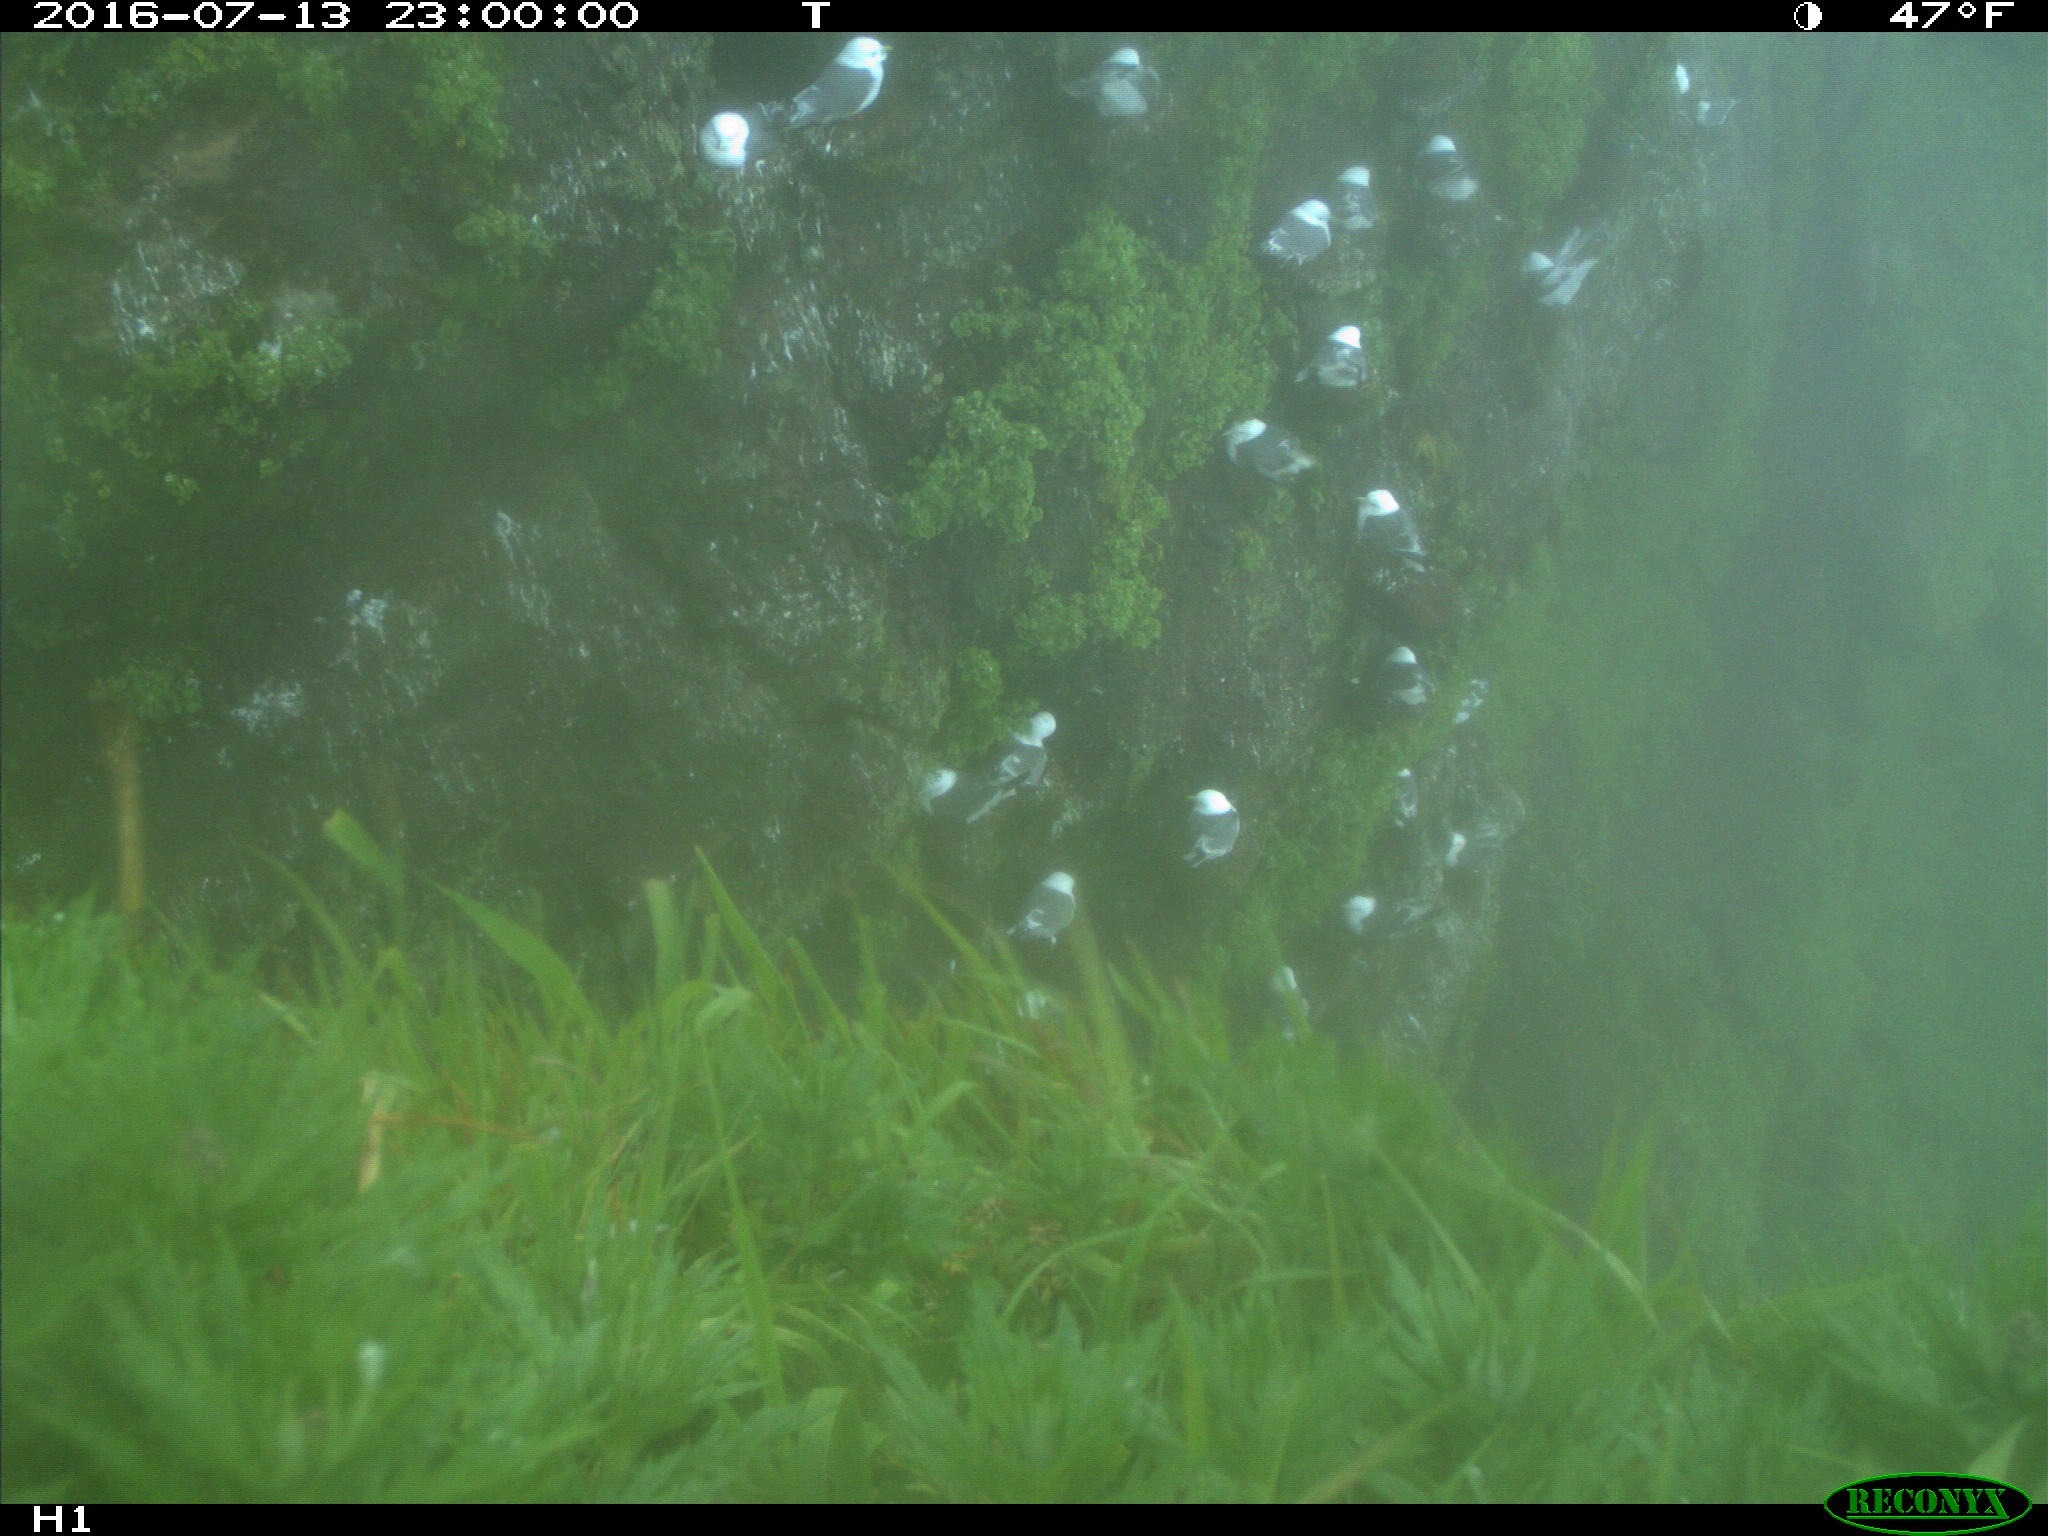Kittiwake: (1029, 32, 1230, 157), (889, 729, 1043, 837), (687, 87, 829, 202), (1272, 308, 1413, 419), (987, 687, 1093, 833), (1184, 403, 1335, 499), (1342, 466, 1442, 600), (1171, 763, 1264, 905), (1508, 208, 1617, 328), (764, 39, 906, 131), (1408, 89, 1492, 242), (995, 842, 1100, 962), (1322, 879, 1458, 968), (1667, 35, 1759, 161), (1234, 171, 1343, 274), (1343, 745, 1437, 855), (1316, 140, 1395, 257), (1358, 616, 1435, 716), (1435, 799, 1508, 892), (1263, 947, 1321, 1042)
